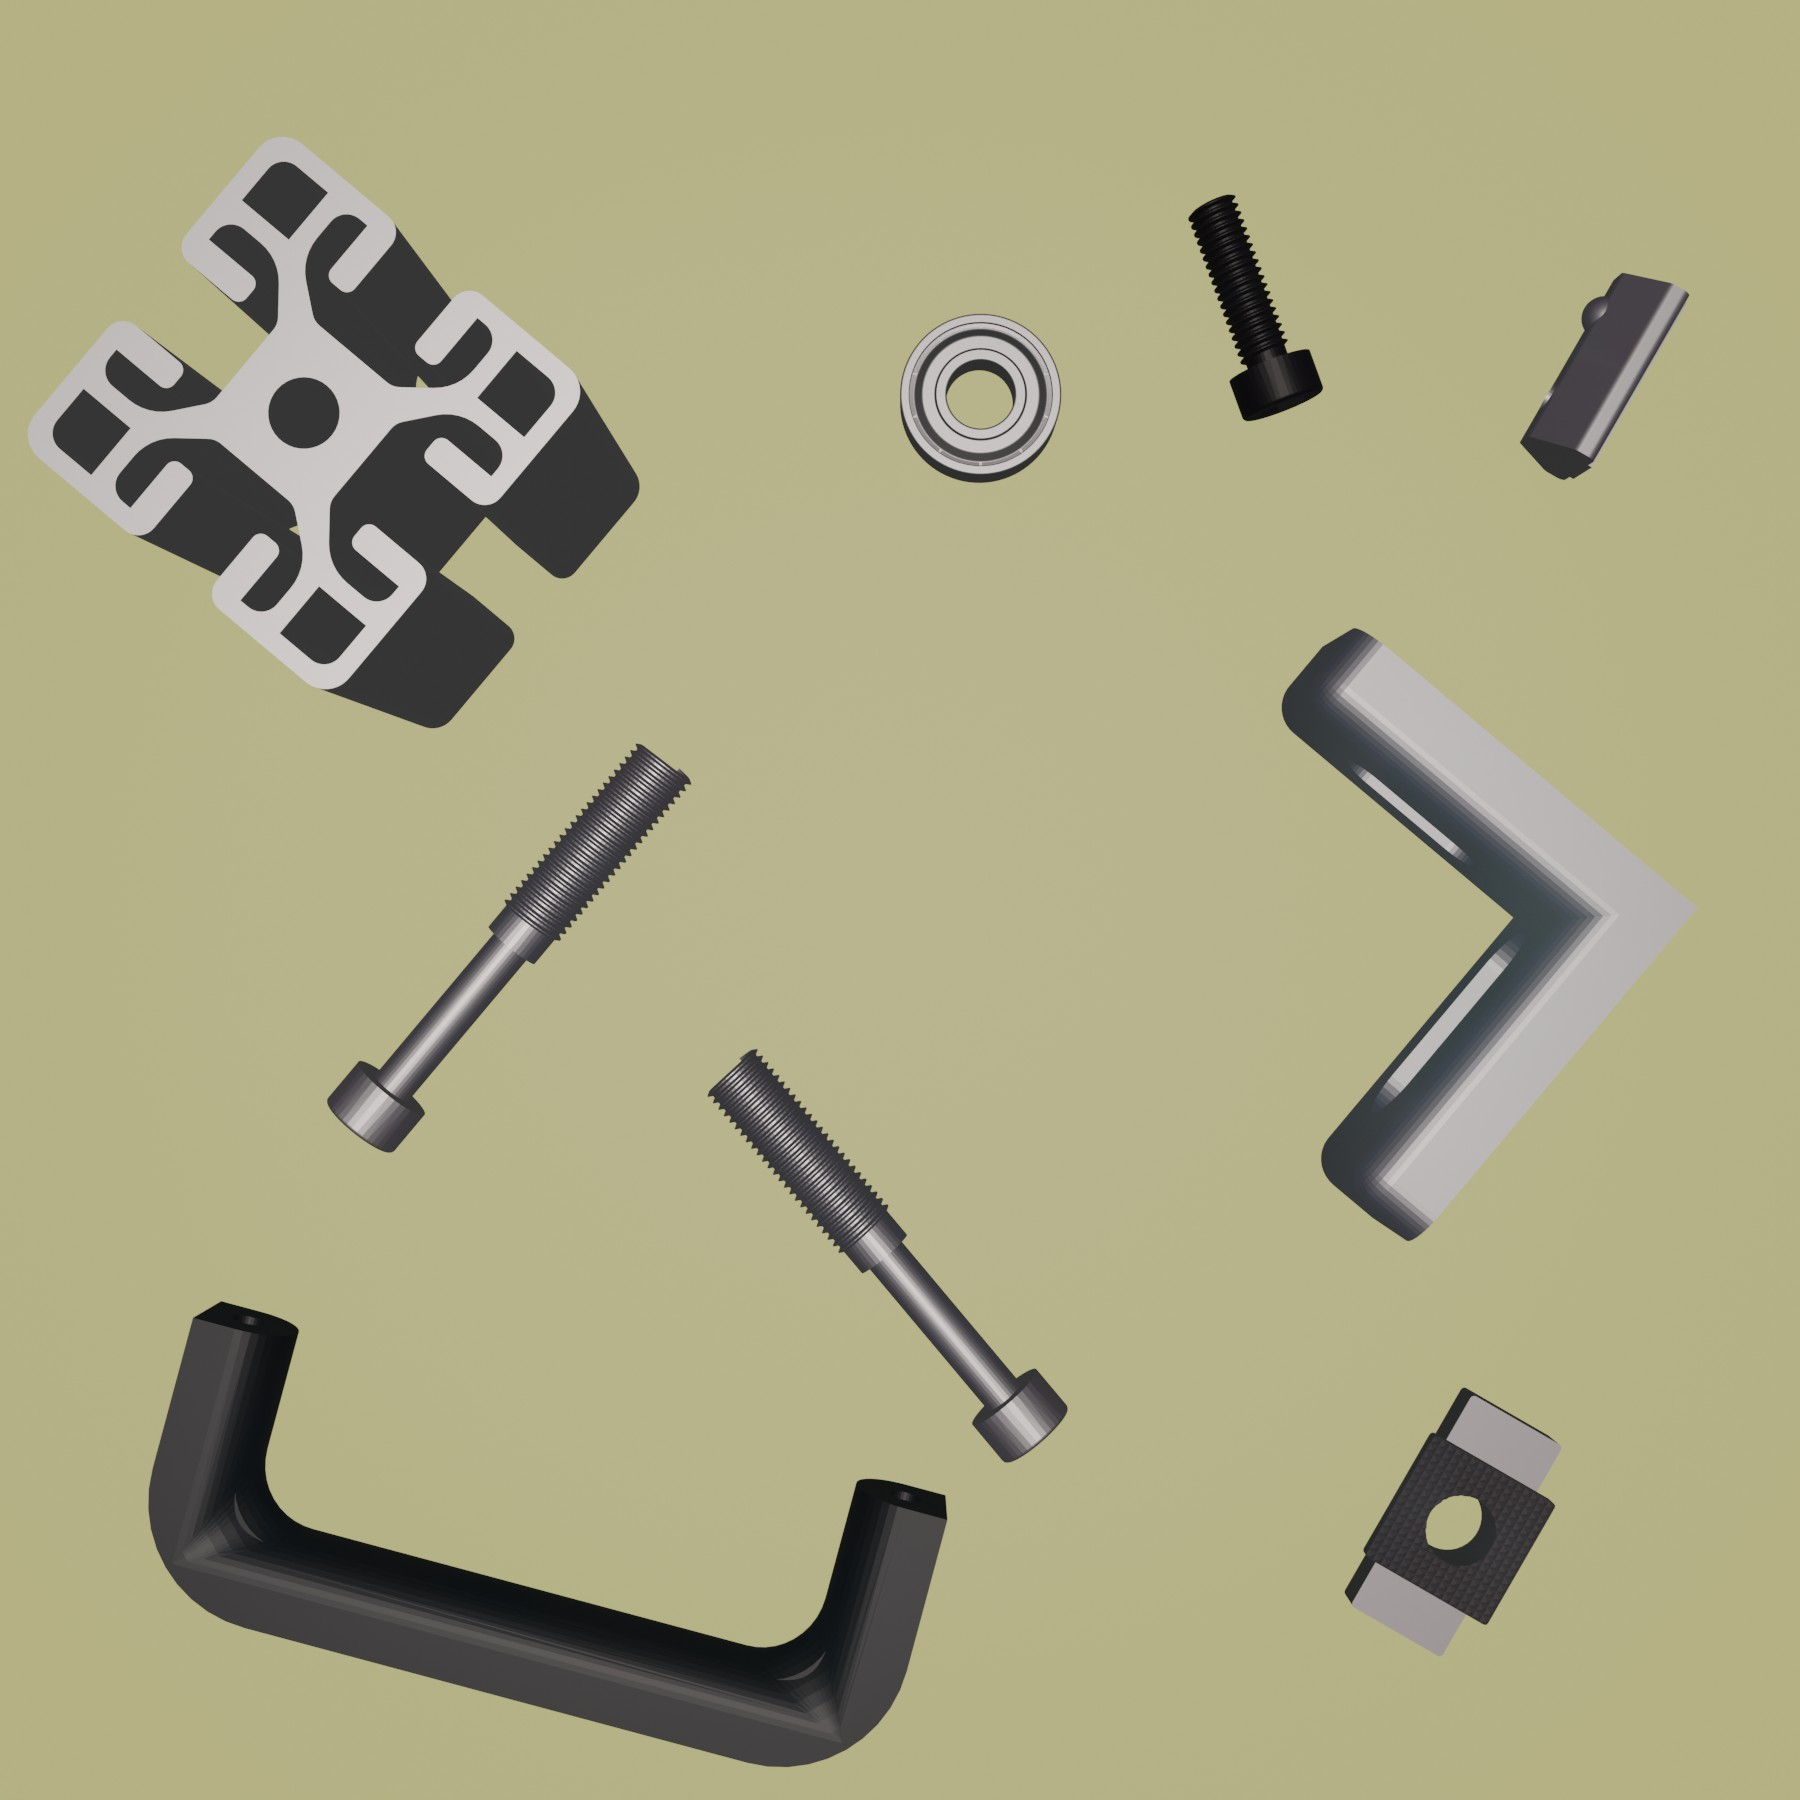Aluminium Extension: (26, 130, 640, 729)
Ball Bearing: (893, 308, 1063, 486)
Multiwinkel: (1277, 621, 1698, 1248)
Pull Handle: (142, 1292, 949, 1769)
Shoulder Socket Head Cap Screw: (702, 1042, 1070, 1465), (326, 742, 692, 1152)
Socket Head Cap Screw: (1184, 190, 1327, 422)
T Nut Square: (1338, 1386, 1564, 1658)
T Spring Nut: (1520, 269, 1695, 481)
